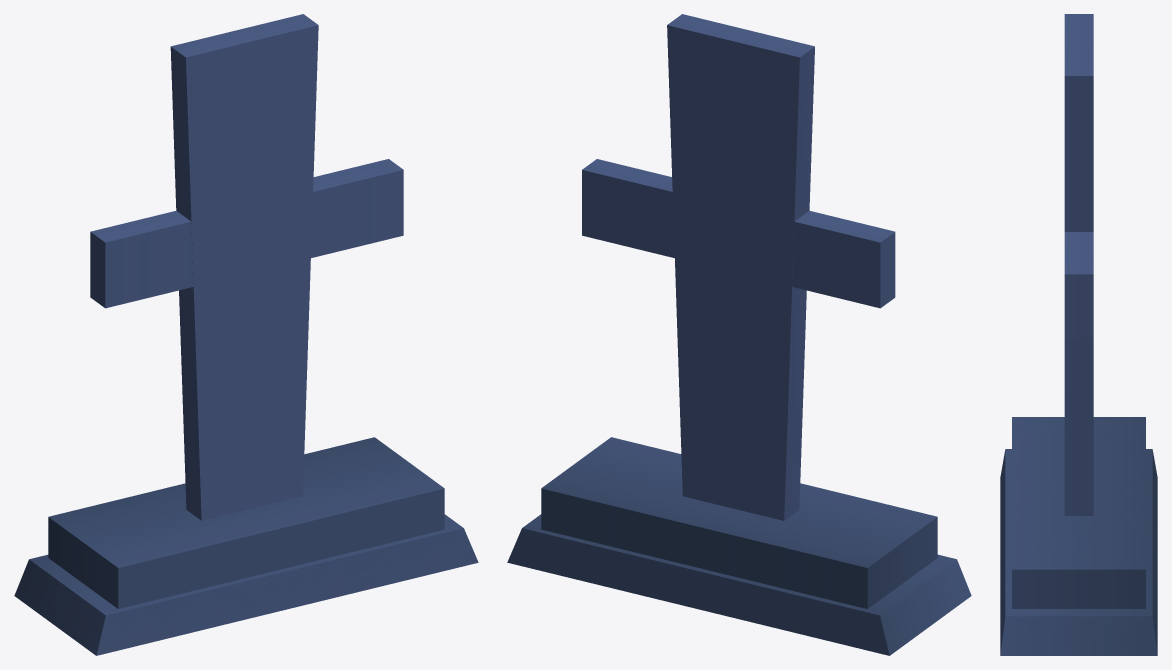
The model's file is MSH_Tumba_2.fbx.
3 renders of one model, left to right at view 1: azimuth 30°, elevation 25°; view 2: azimuth 150°, elevation 25°; view 3: azimuth 270°, elevation 25°, orthographic. The views are drawn at different scales.
Visible parts, largest first — view 1: Box080; view 2: Box080; view 3: Box080.
Boxes of the visible parts, x1,y1,x2,y2 form: Box080: [14, 14, 478, 655]; Box080: [507, 14, 971, 655]; Box080: [1000, 14, 1157, 655].
Bounding box in the file's own units: 28.69 × 39 × 10.67.
